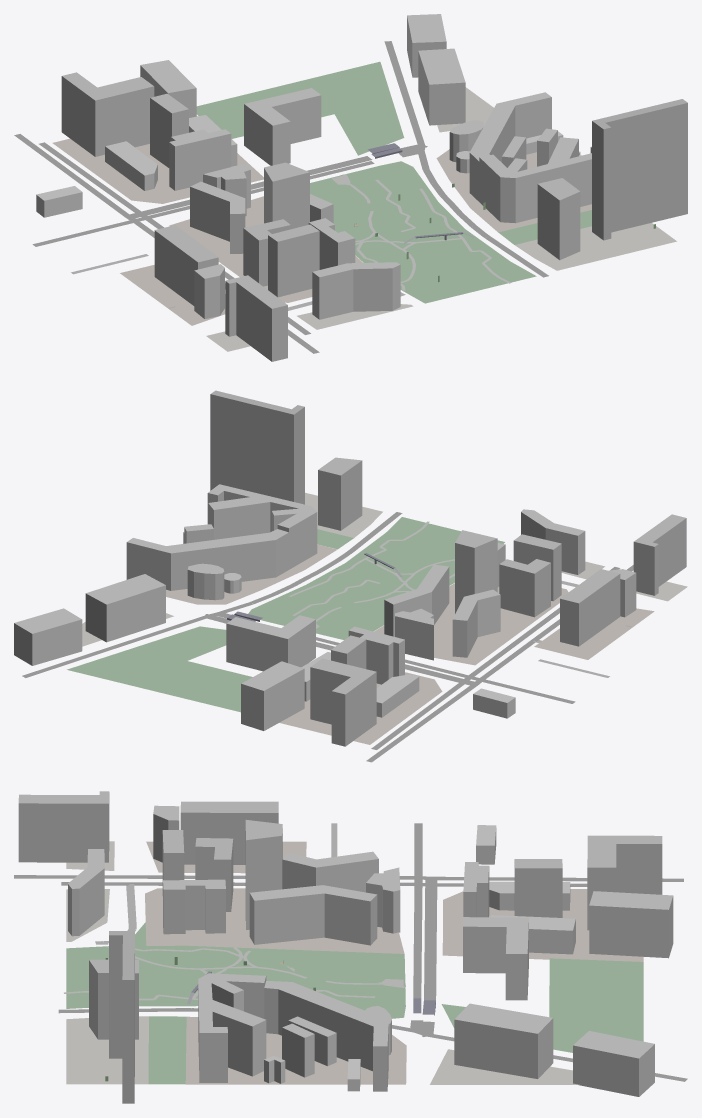
The picture shows the model from 3 angles, top to bottom: view 1: azimuth 30°, elevation 25°; view 2: azimuth 150°, elevation 25°; view 3: azimuth 270°, elevation 25°; orthographic projection. The views are drawn at different scales.
Bounding box in the file's own units: 579 × 122 × 584.
